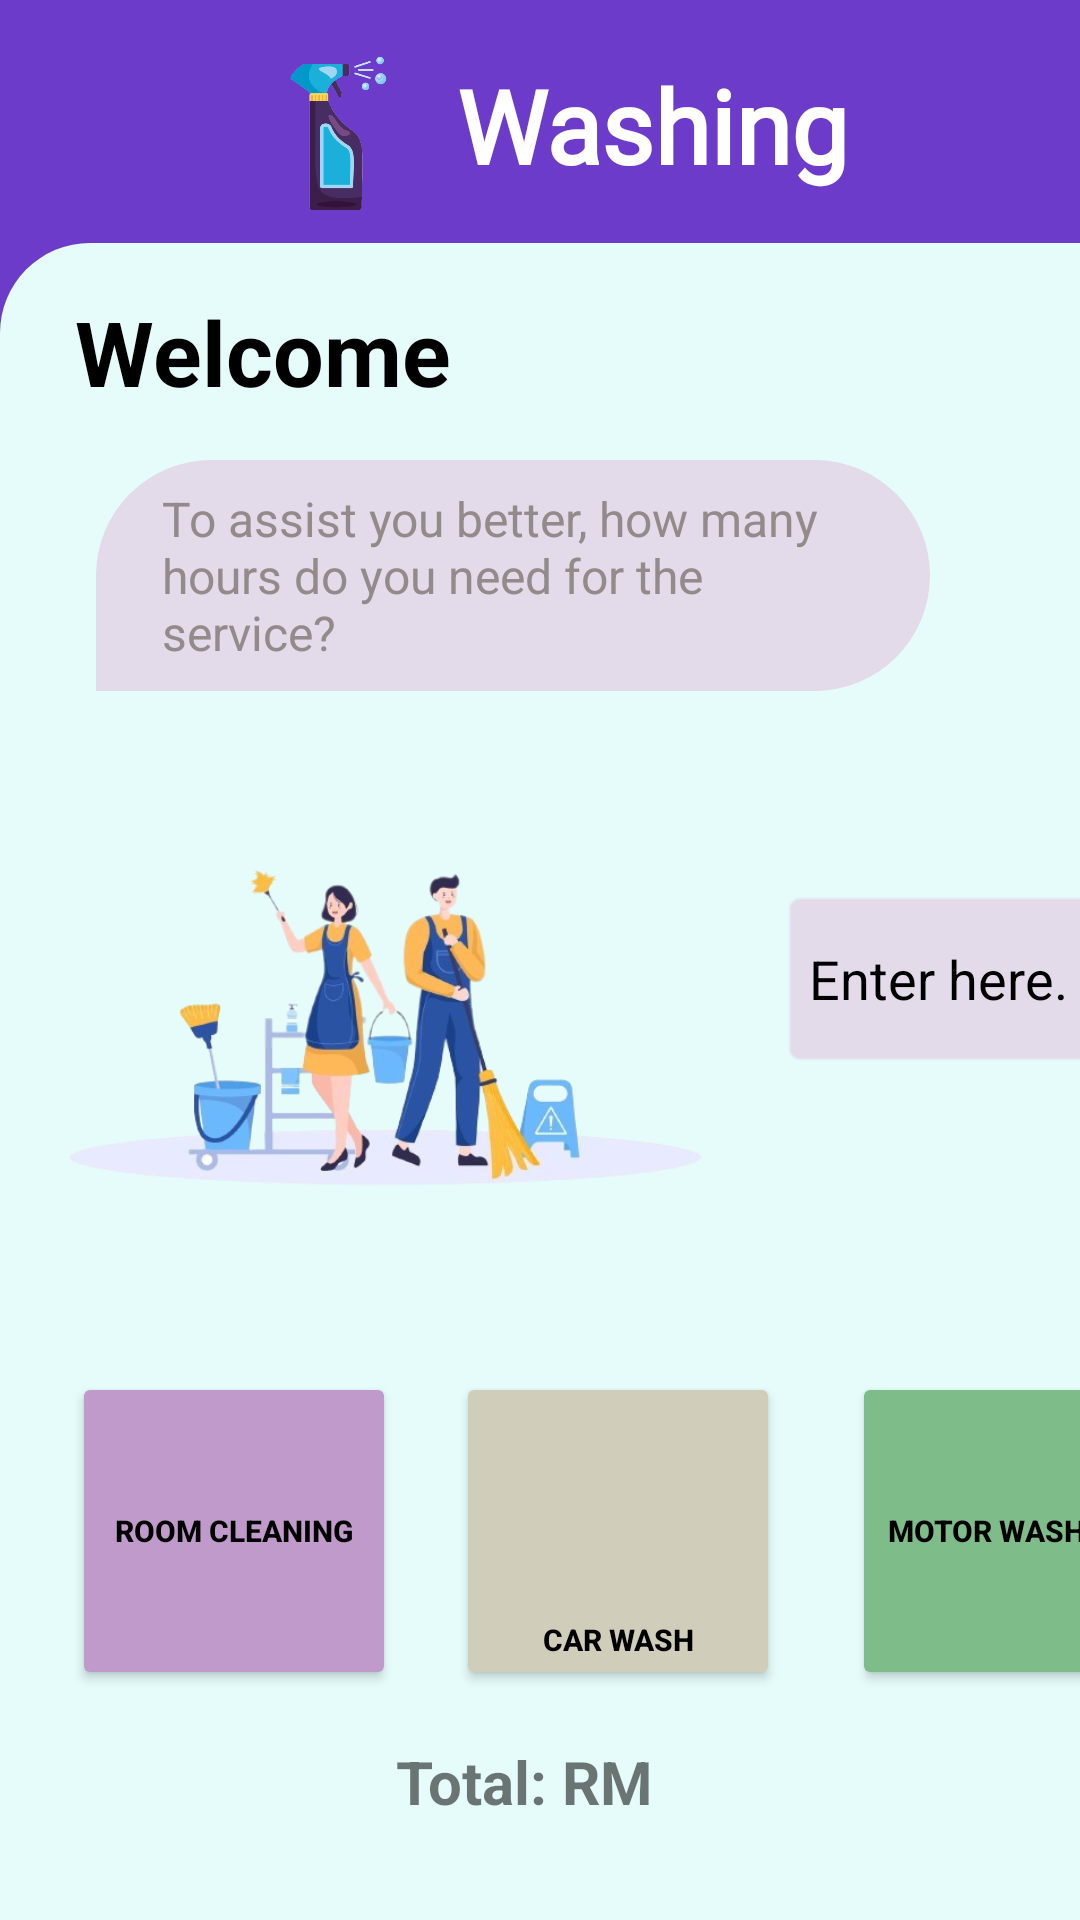

Screen size 1080px×1920px. Icon name, then its center in pixels as (x,y):
spray: (338,133)
